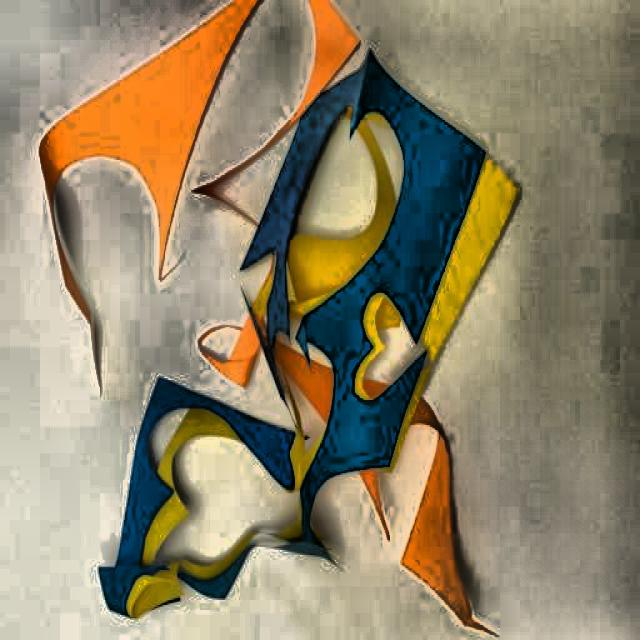paper: (31, 5, 509, 640)
